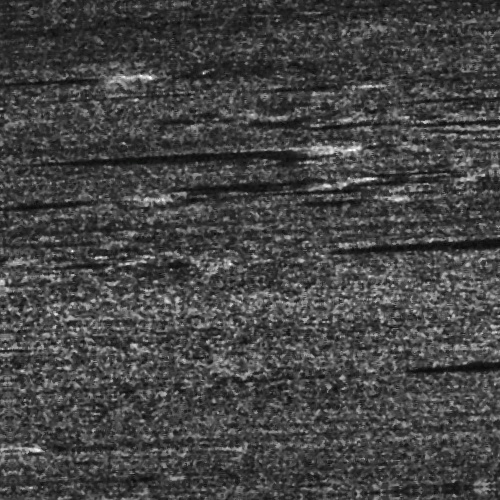object: (287, 142, 360, 161), (61, 63, 186, 72), (92, 185, 197, 194), (331, 199, 414, 206), (0, 238, 46, 247), (337, 497, 462, 500), (330, 87, 393, 92), (336, 177, 377, 180)
shadow: (85, 142, 323, 161), (0, 185, 144, 194), (0, 63, 123, 72), (281, 199, 372, 206), (456, 370, 500, 381), (268, 87, 361, 92), (264, 497, 399, 500), (426, 130, 500, 135), (263, 177, 356, 180), (423, 251, 500, 254), (0, 238, 14, 247), (1, 433, 52, 434)
